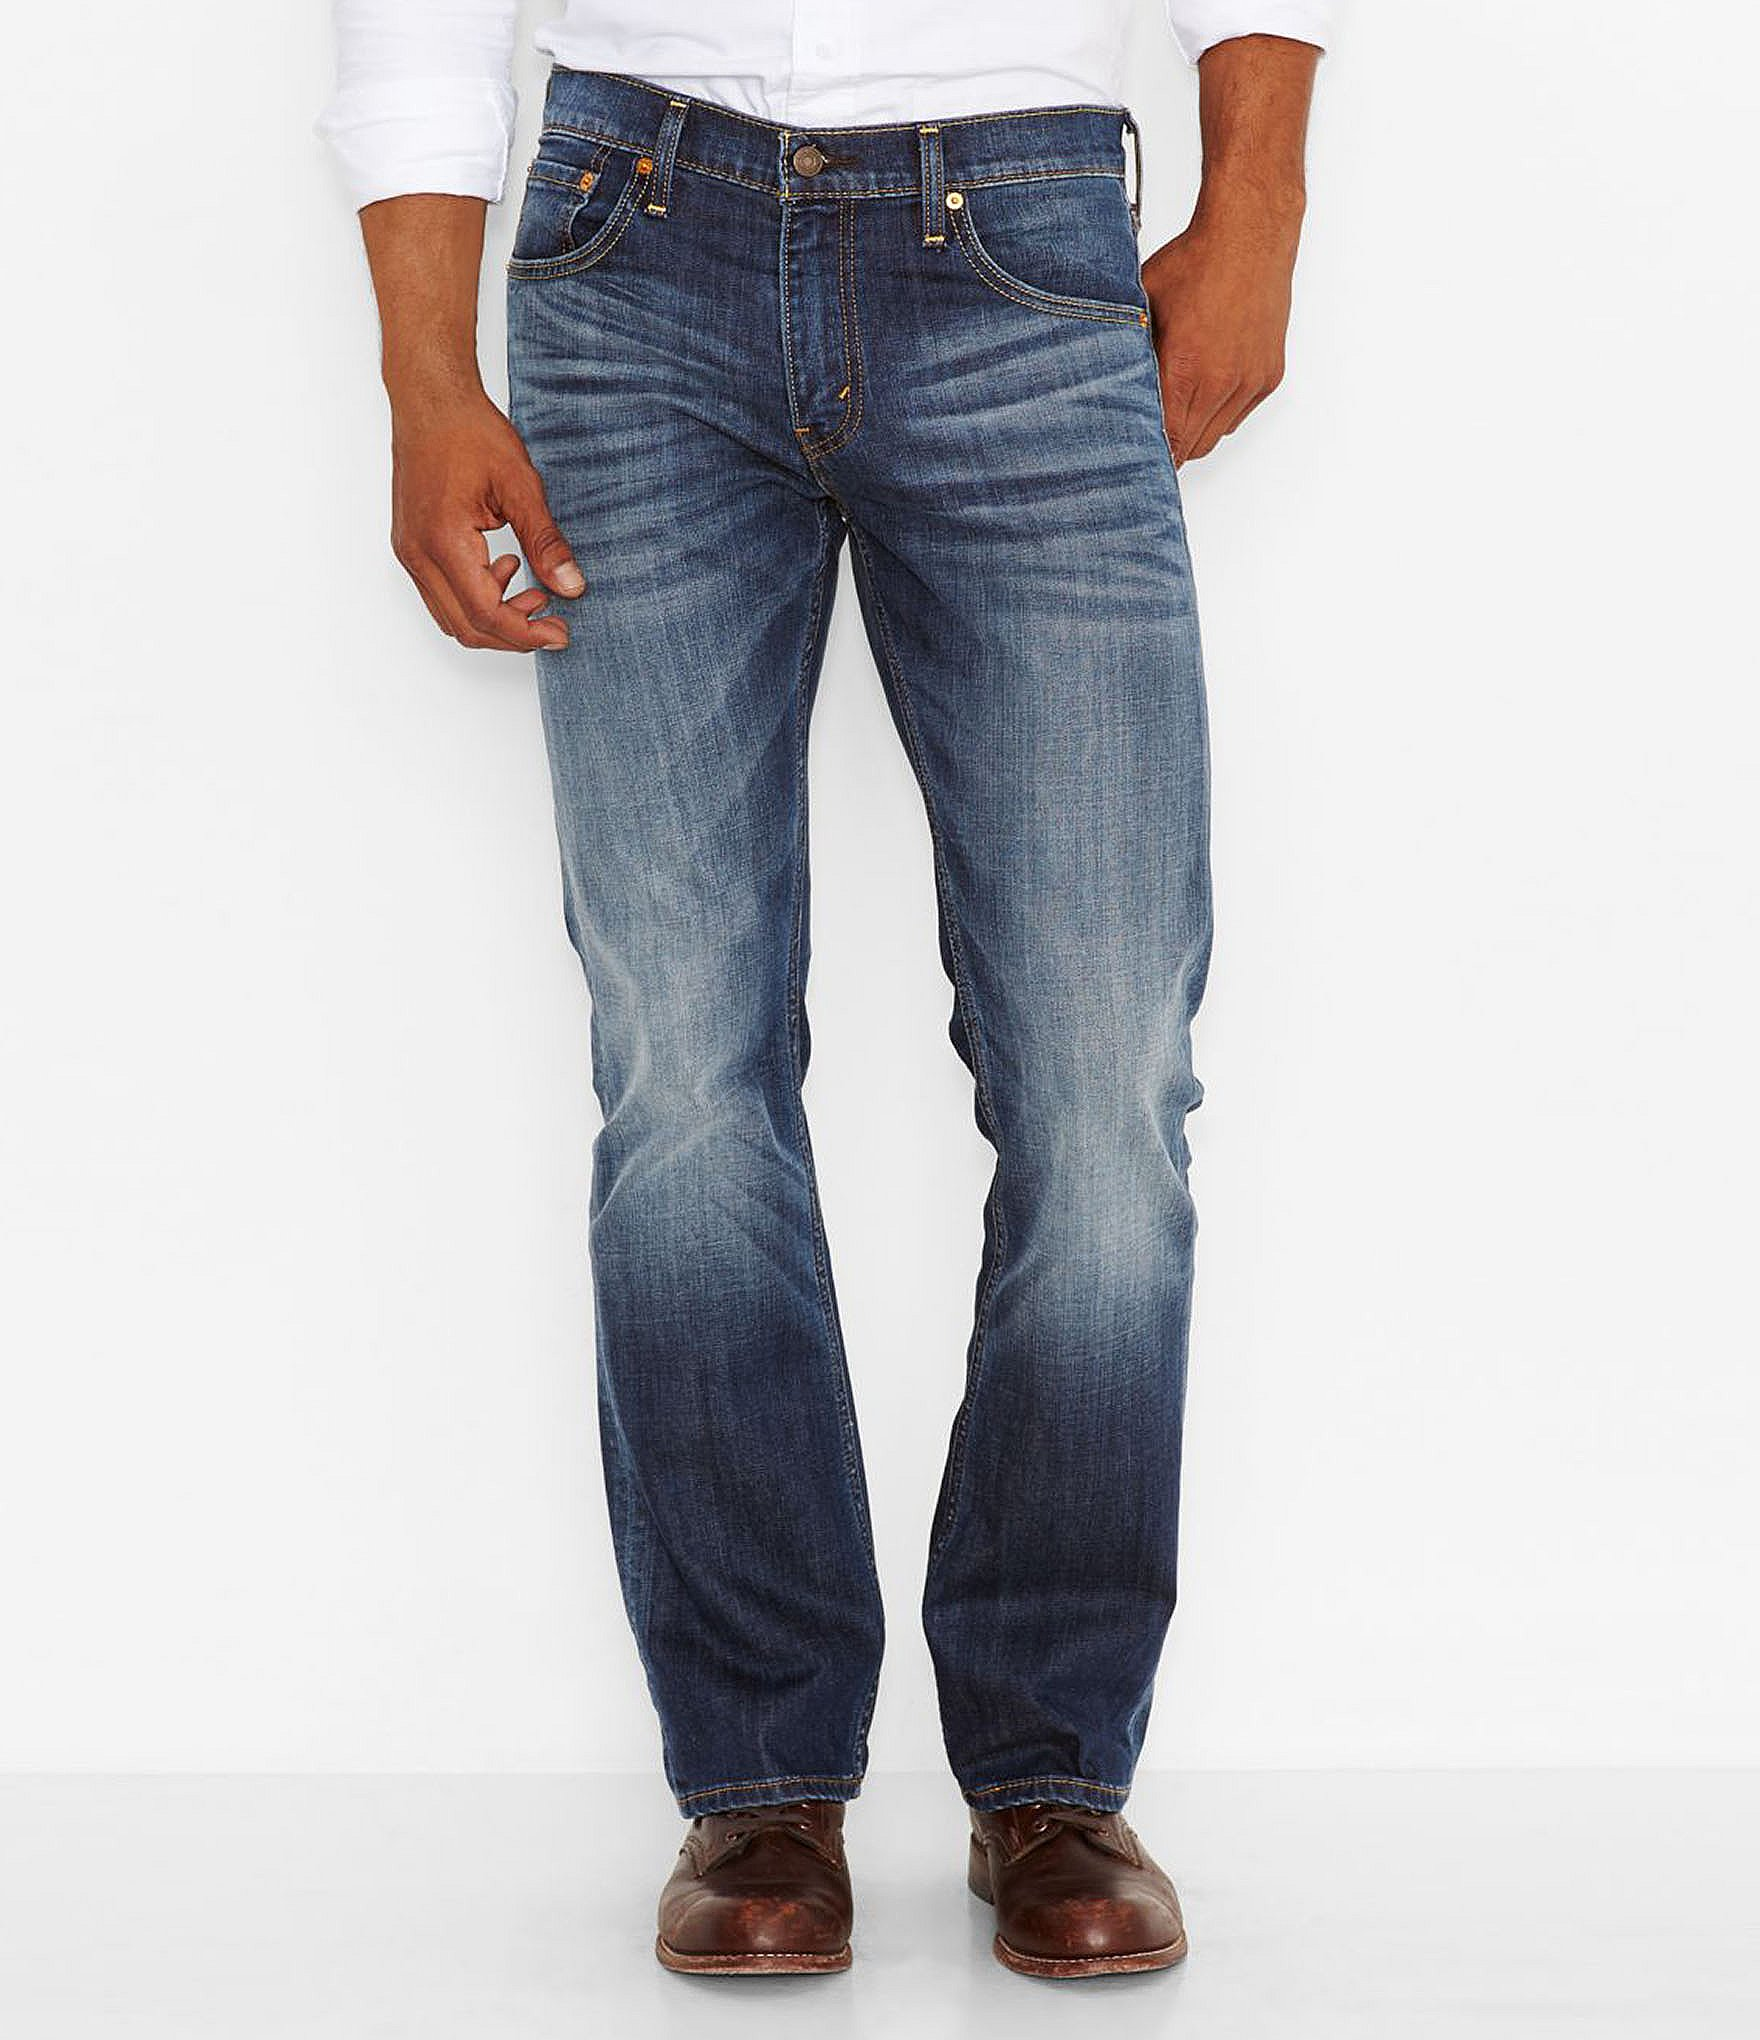Jeans: (487, 71, 1221, 1827)
